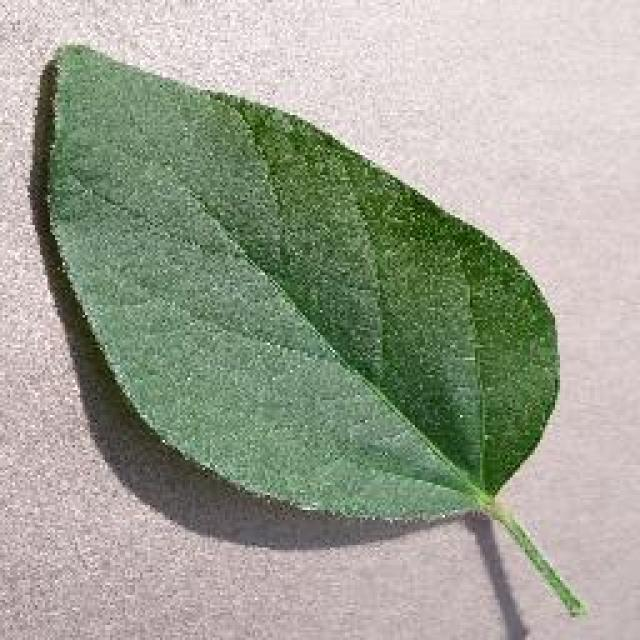Soy_healthy: (57, 69, 497, 510)
